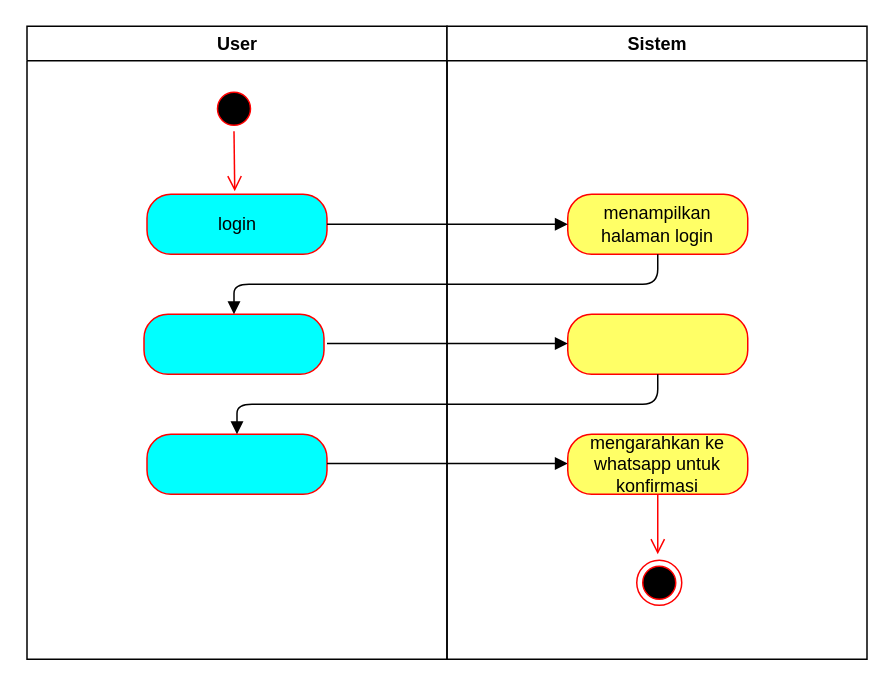
The diagram is 893 pixels wide and 686 high, and some of its shapes have lost their labels. The shapes that lost their labels are listed below. From the top down, each one's centre as x and y in pixels, then its label:
At [233,343]: "membeli akun premium".
At [657,343]: "menampilkan detail pembelian premium".
At [236,463]: "konfirmasi".
